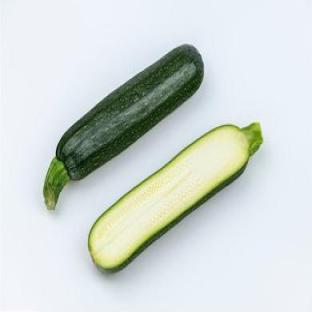Zucchini: (44, 45, 203, 209), (88, 124, 262, 271)
